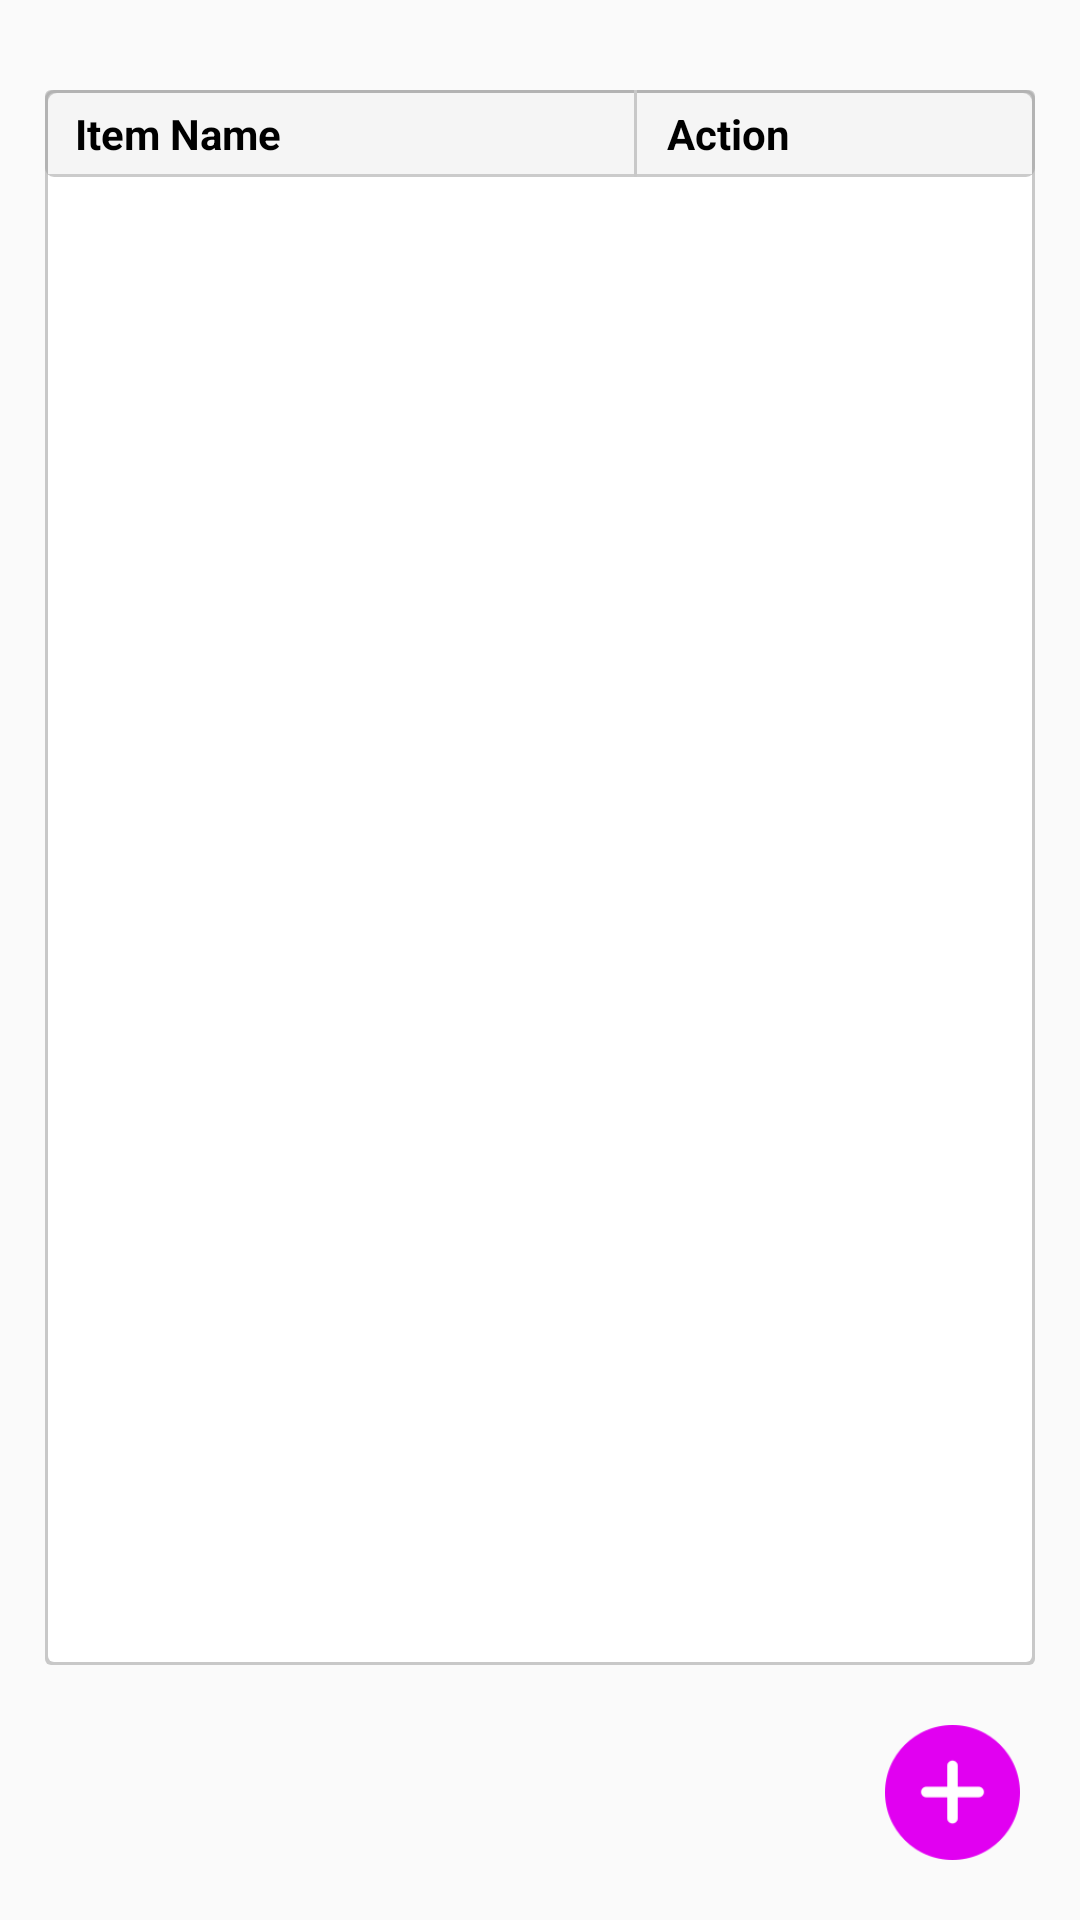

Where icons sit on this 1080×1920 app screen, as (x1=x1, y1=y1, x2=x2, y2=y2):
add: (x1=885, y1=1725, x2=1020, y2=1860)
